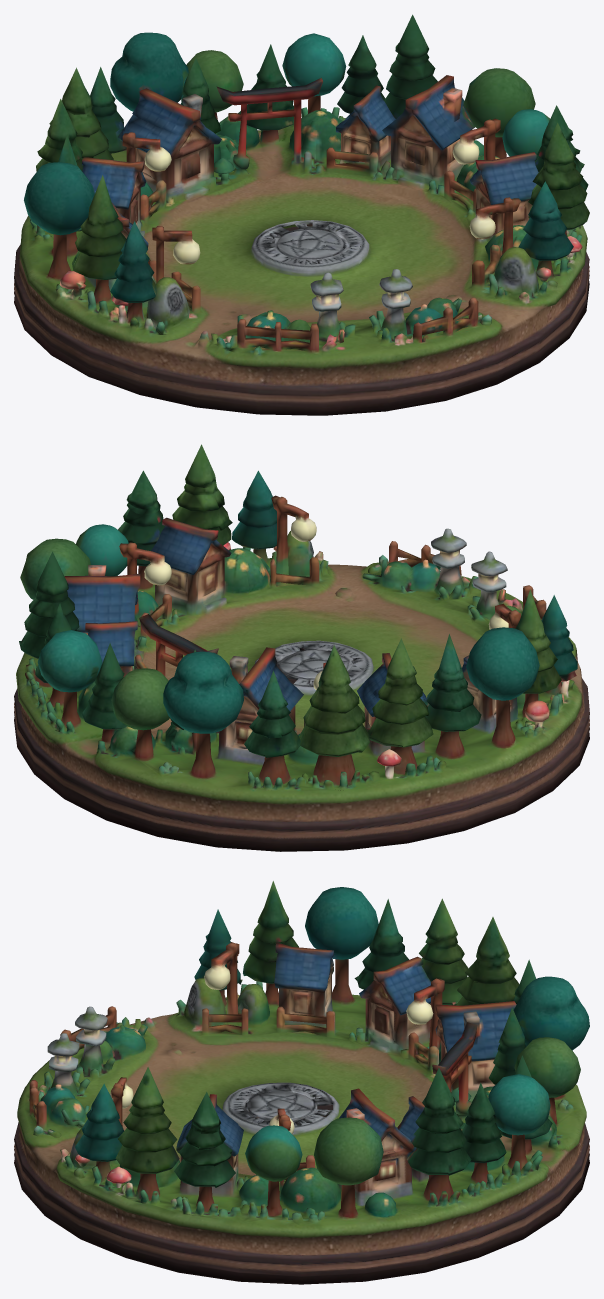
The model's file is arena.glb.
3 views of the same model, one above another, from view 1: azimuth 30°, elevation 25°; view 2: azimuth 150°, elevation 25°; view 3: azimuth 270°, elevation 25° (orthographic).
Visible parts, largest first — view 1: tripo_node_c913c280-fcfb-49aa-adb5-04f032f75882; view 2: tripo_node_c913c280-fcfb-49aa-adb5-04f032f75882; view 3: tripo_node_c913c280-fcfb-49aa-adb5-04f032f75882.
Part boxes in pixels (x1,y1,x2,y2): tripo_node_c913c280-fcfb-49aa-adb5-04f032f75882: (14, 14, 589, 415); tripo_node_c913c280-fcfb-49aa-adb5-04f032f75882: (14, 444, 589, 851); tripo_node_c913c280-fcfb-49aa-adb5-04f032f75882: (14, 881, 589, 1284).
Bounding box in the file's own units: 0.9779 × 0.3502 × 0.9779.
Materials: 1 (1 with a texture image).
